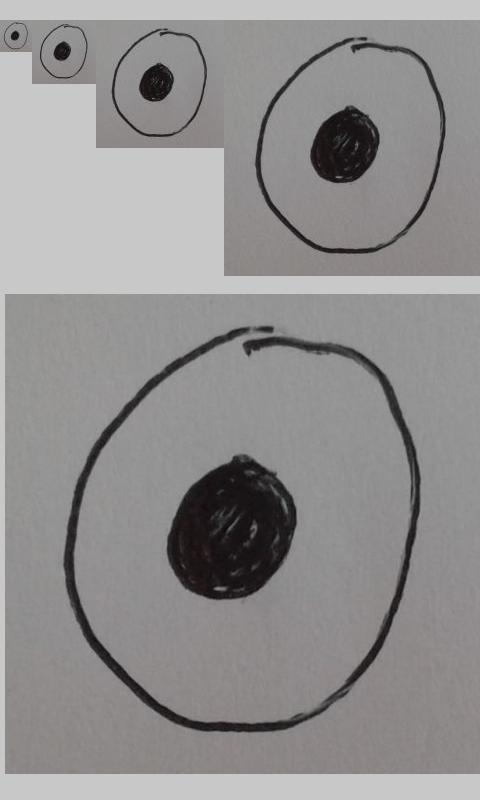radio_button: (59, 322, 424, 736), (253, 36, 447, 256), (110, 27, 209, 138), (38, 23, 88, 80), (3, 22, 29, 50)
